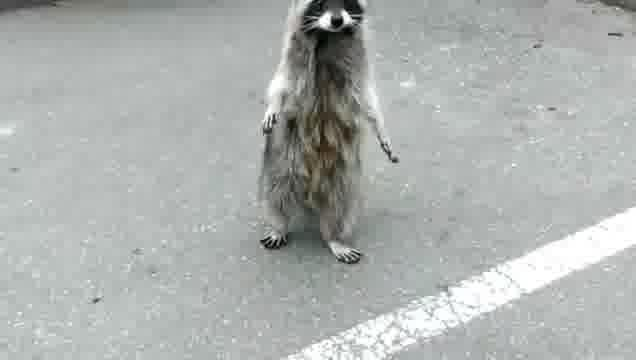raccoon: (258, 0, 402, 268)
